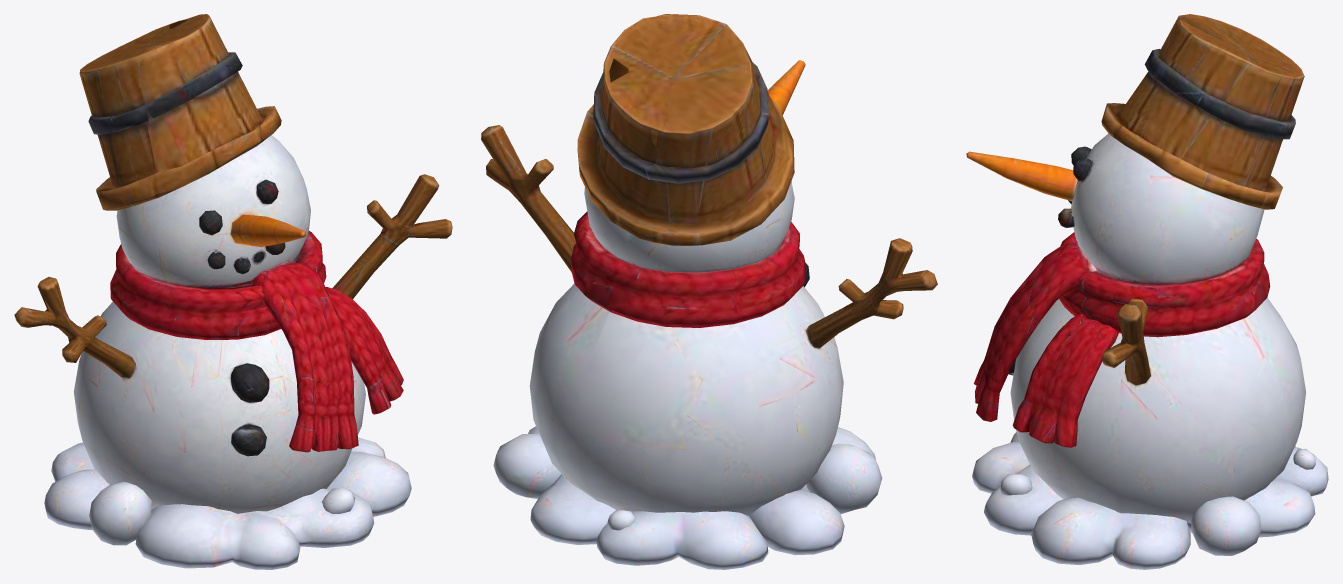
Rendered from fest_snowman.glb.
The picture shows the model from 3 angles, left to right: view 1: azimuth 30°, elevation 25°; view 2: azimuth 150°, elevation 25°; view 3: azimuth 270°, elevation 25°; orthographic projection. The views are drawn at different scales.
Bounding box in the file's own units: 0.9739 × 1 × 0.713.
1 material, 1 textured.
